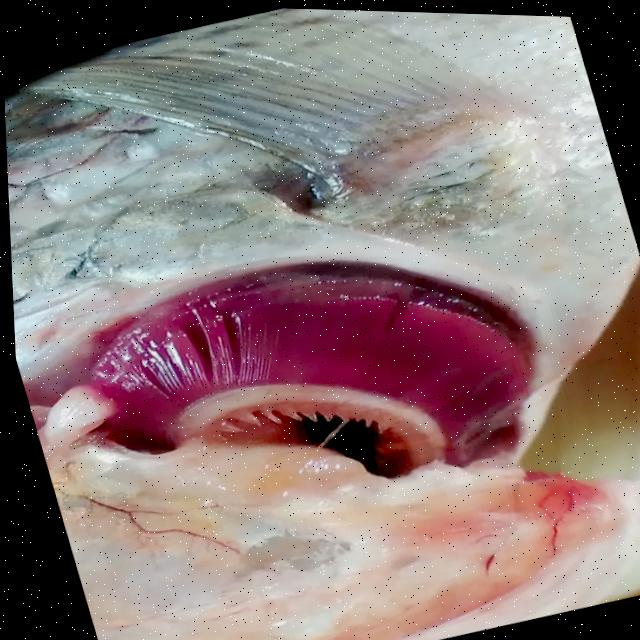Fresh: (12, 190, 576, 511)
